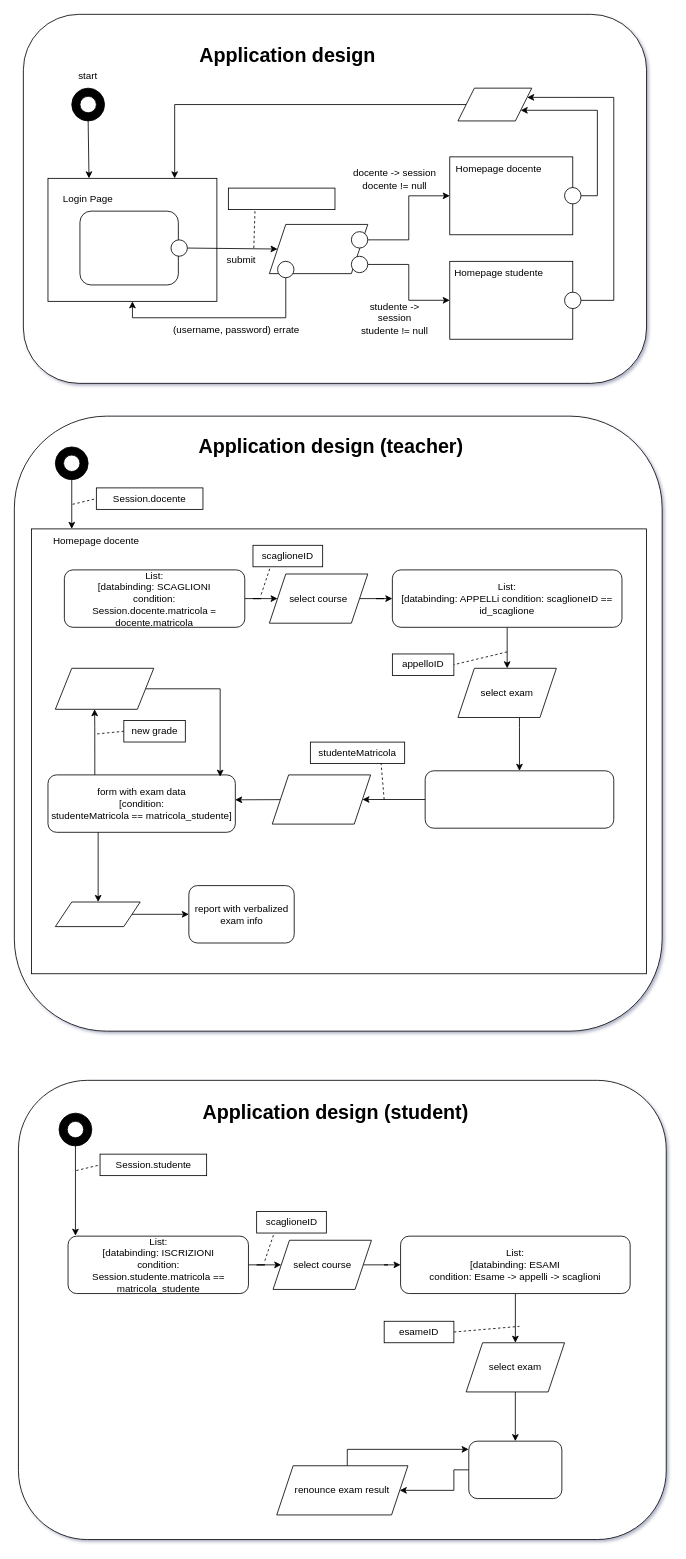
Some shapes in this 686 by 1559 pixel diagram are drawn without their labels. Each missing label, with the box of its shape:
(username, password): (228, 187, 335, 210)
check login: (269, 224, 368, 274)
exam result update: (55, 667, 154, 709)
List: [databinding: ESAMI condition: appelloID == id_appello: (424, 770, 614, 828)
Login form [field: username field: password]: (79, 210, 178, 285)
logout: (457, 87, 532, 121)
report with exam result info: (468, 1440, 562, 1499)
select student exam: (271, 774, 371, 824)
verbalize: (55, 901, 140, 927)
